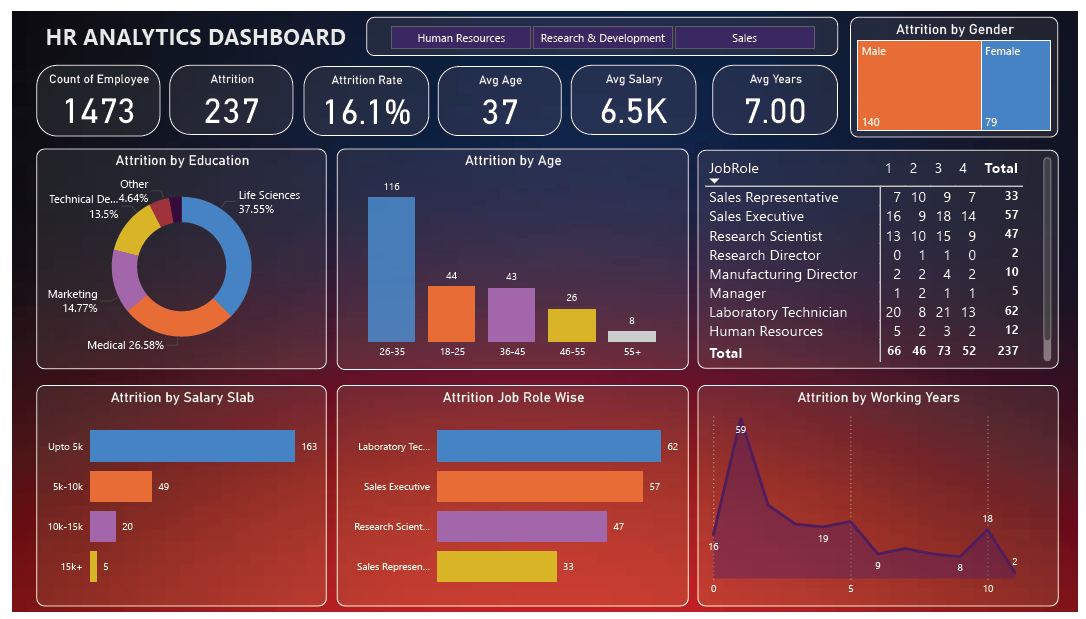

Layout of this report page (visuals, bound fields, positions):
{"tool":"powerbi","page":{"name":"Page 1","canvas":[1280,720],"ordinal":0},"visuals":[{"type":"card","title":"Count of Employee","fields":{"Values":["CountNonNull(HR_Analytics.EmpID)"]},"box":[28.1,63.6,149.5,85.8],"z":0},{"type":"card","title":"Attrition","fields":{"Values":["Sum(HR_Analytics.AttritionCount)"]},"box":[187.9,63.6,149.5,84.3],"z":1000},{"type":"card","title":"Attrition Rate","fields":{"Values":["HR_Analytics.AttritionRate"]},"box":[349.2,65.1,150.9,84.3],"z":2000},{"type":"card","title":"Avg Age","fields":{"Values":["Avg(HR_Analytics.Age)"]},"box":[510.5,65.1,149.5,84.3],"z":3000},{"type":"card","title":"Avg Salary","fields":{"Values":["Avg(HR_Analytics.MonthlyIncome)"]},"box":[670.3,63.6,150.9,84.3],"z":4000},{"type":"card","title":"Avg Years","fields":{"Values":["Avg(HR_Analytics.YearsAtCompany)"]},"box":[840.5,63.6,150.9,84.3],"z":5000},{"type":"donutChart","title":"Attrition by Education","fields":{"Y":["Sum(HR_Analytics.AttritionCount)"],"Category":["HR_Analytics.EducationField"]},"box":[28.1,164.3,349.2,264.9],"z":6000},{"type":"columnChart","title":"Attrition by Age","fields":{"Category":["HR_Analytics.AgeGroup"],"Y":["Sum(HR_Analytics.AttritionCount)"]},"box":[389.5,163.8,422.5,265.6],"z":7000},{"type":"pivotTable","fields":{"Rows":["HR_Analytics.JobRole"],"Columns":["HR_Analytics.JobSatisfaction"],"Values":["Sum(HR_Analytics.AttritionCount)"]},"box":[822.8,165.7,433.6,263.4],"z":8000},{"type":"barChart","title":"Attrition by Salary Slab","fields":{"Category":["HR_Analytics.SalarySlab"],"Y":["Sum(HR_Analytics.AttritionCount)"]},"box":[28.1,448.4,349.2,266.4],"z":9000},{"type":"barChart","title":"Attrition Job Role Wise","fields":{"Category":["HR_Analytics.JobRole"],"Y":["Sum(HR_Analytics.AttritionCount)"]},"box":[389.2,448.4,423.2,266.4],"z":10000},{"type":"areaChart","title":"Attrition by Working Years","fields":{"Category":["HR_Analytics.YearsAtCompany"],"Y":["Sum(HR_Analytics.AttritionCount)"]},"box":[822.8,448.4,433.6,266.4],"z":11000},{"type":"treemap","title":"Attrition by Gender","fields":{"Group":["HR_Analytics.Gender"],"Values":["Sum(HR_Analytics.AttritionCount)"]},"box":[1006.2,5.9,250.1,145],"z":12000},{"type":"slicer","fields":{"Values":["HR_Analytics.Department"]},"box":[424.7,5.9,566.8,47.4],"z":13000},{"type":"textbox","box":[28.1,5.9,383.3,47.4],"z":14000}]}

Visuals, with their boxes in screenshot pixels (x1, y1, x2, y2), scaled from the page's 1280x720 canvas onto the 1086x619 screenshot:
"Count of Employee" card: {"left": 24, "top": 55, "right": 151, "bottom": 128}
"Attrition" card: {"left": 159, "top": 55, "right": 286, "bottom": 127}
"Attrition Rate" card: {"left": 296, "top": 56, "right": 424, "bottom": 128}
"Avg Age" card: {"left": 433, "top": 56, "right": 560, "bottom": 128}
"Avg Salary" card: {"left": 569, "top": 55, "right": 697, "bottom": 127}
"Avg Years" card: {"left": 713, "top": 55, "right": 841, "bottom": 127}
"Attrition by Education" donutChart: {"left": 24, "top": 141, "right": 320, "bottom": 369}
"Attrition by Age" columnChart: {"left": 330, "top": 141, "right": 689, "bottom": 369}
pivotTable - HR_Analytics.JobRole x HR_Analytics.JobSatisfaction: {"left": 698, "top": 142, "right": 1066, "bottom": 369}
"Attrition by Salary Slab" barChart: {"left": 24, "top": 385, "right": 320, "bottom": 615}
"Attrition Job Role Wise" barChart: {"left": 330, "top": 385, "right": 689, "bottom": 615}
"Attrition by Working Years" areaChart: {"left": 698, "top": 385, "right": 1066, "bottom": 615}
"Attrition by Gender" treemap: {"left": 854, "top": 5, "right": 1066, "bottom": 130}
slicer - HR_Analytics.Department: {"left": 360, "top": 5, "right": 841, "bottom": 46}
textbox: {"left": 24, "top": 5, "right": 349, "bottom": 46}
